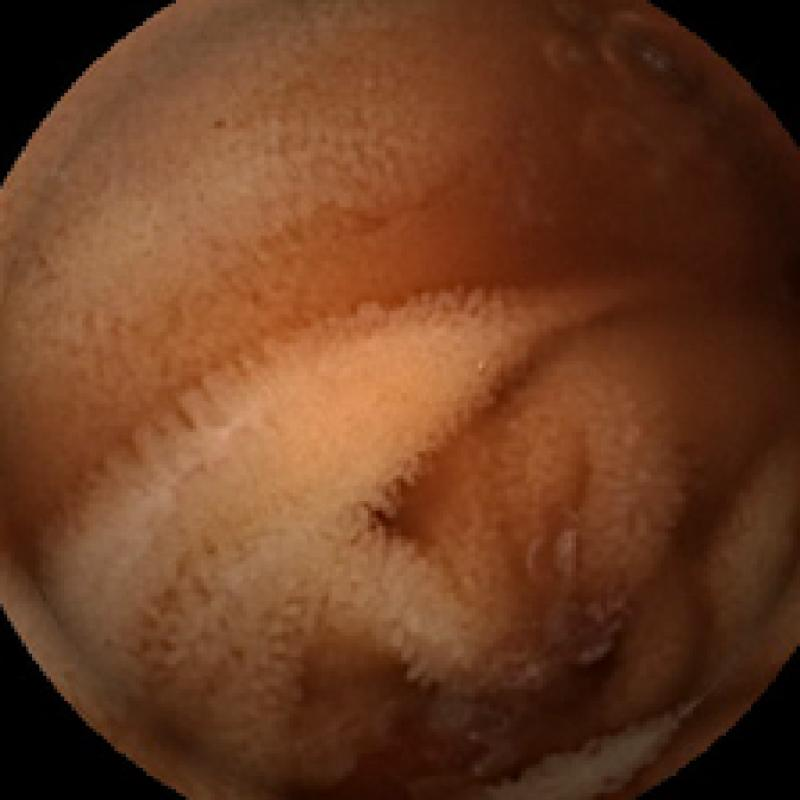bleeding: (339, 611, 704, 789)
